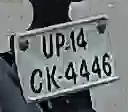1: (70, 30, 78, 55)
4: (65, 62, 78, 88), (78, 59, 92, 82), (76, 27, 88, 51), (93, 56, 101, 81)
6: (101, 54, 112, 78)
C: (29, 67, 44, 96)
K: (45, 66, 59, 93)
P: (54, 31, 64, 58)
U: (41, 33, 54, 59)
